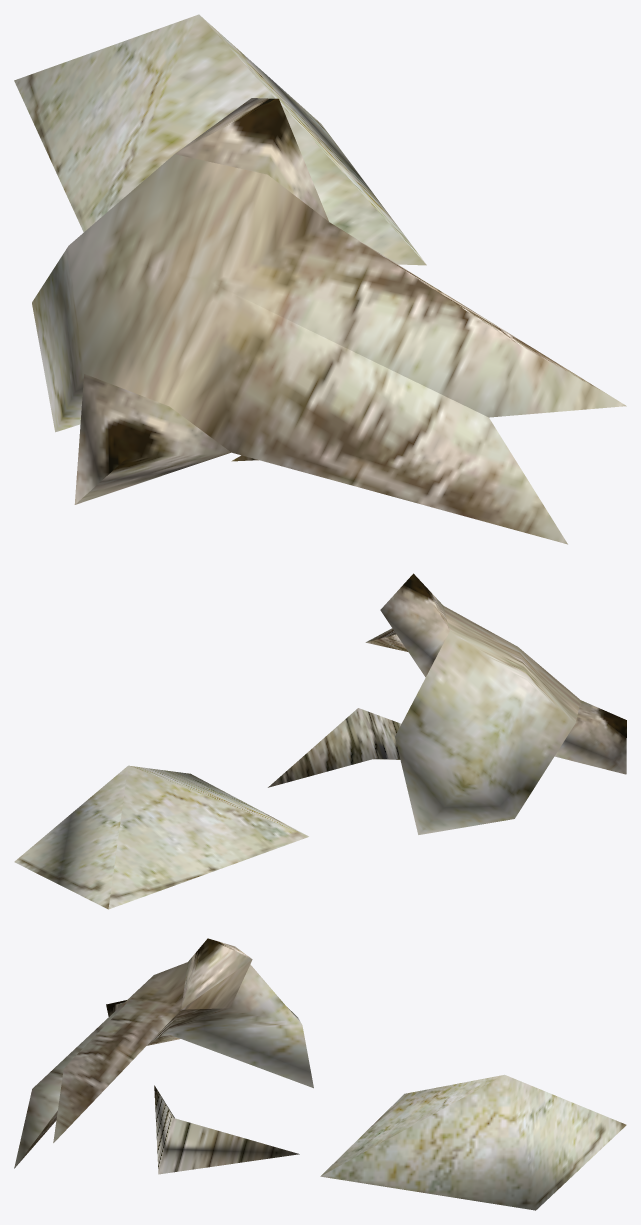
The model's file is poi_all_ithorian_head_l3.fbx.
3 views of the same model, one above another, from view 1: azimuth 30°, elevation 25°; view 2: azimuth 150°, elevation 25°; view 3: azimuth 270°, elevation 25° (orthographic). The views are drawn at different scales.
Parts seen in each view (by area): view 1: mesh_node; view 2: mesh_node; view 3: mesh_node.
Boxes of the visible parts, bbox=[...] form: mesh_node: bbox=[14, 14, 626, 544]; mesh_node: bbox=[14, 573, 626, 909]; mesh_node: bbox=[14, 938, 626, 1210].
Bounding box in the file's own units: 0.2676 × 0.1503 × 0.4177.
1 material, 1 textured.
